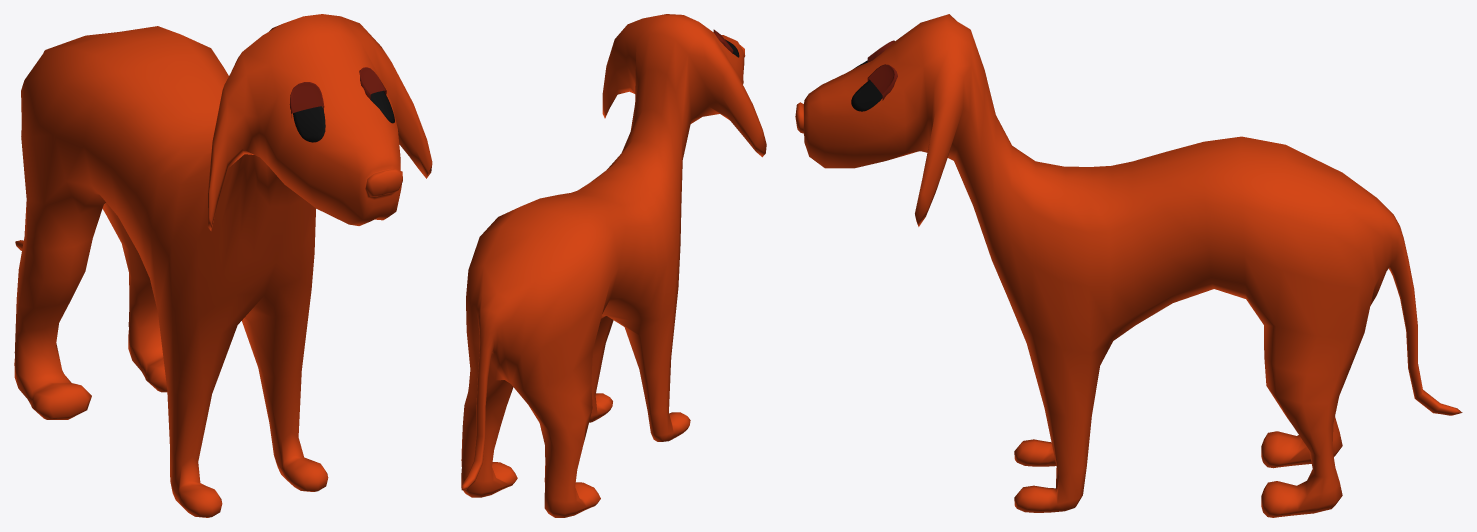
The model's file is baleia.obj.
3 renders of one model, left to right at view 1: azimuth 30°, elevation 25°; view 2: azimuth 150°, elevation 25°; view 3: azimuth 270°, elevation 25°, orthographic. The views are drawn at different scales.
Visible parts, largest first — view 1: Baleia; view 2: Baleia; view 3: Baleia.
Part boxes in pixels (<box>): Baleia: <box>14,14,432,517</box>; Baleia: <box>461,14,766,517</box>; Baleia: <box>795,14,1462,517</box>.
Bounding box in the file's own units: 1.45 × 3.24 × 4.2.
